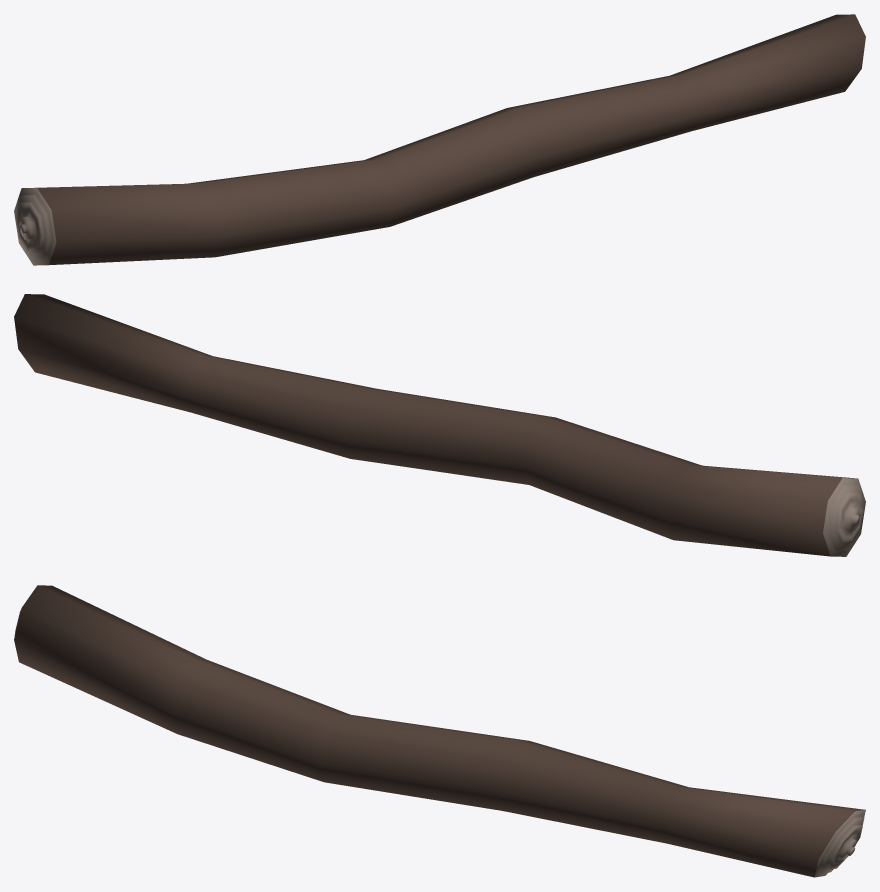
The model's file is Msh_wooden_stick_4_Env.fbx.
3 views of the same model, one above another, from view 1: azimuth 30°, elevation 25°; view 2: azimuth 150°, elevation 25°; view 3: azimuth 330°, elevation 25° (orthographic).
Visible parts, largest first — view 1: wooden_stick_4; view 2: wooden_stick_4; view 3: wooden_stick_4.
Boxes of the visible parts, left/top/right/bottom form: wooden_stick_4: left=14, top=14, right=865, bottom=265; wooden_stick_4: left=14, top=294, right=865, bottom=556; wooden_stick_4: left=14, top=585, right=865, bottom=877.
Bounding box in the file's own units: 74.64 × 9.64 × 8.98.
